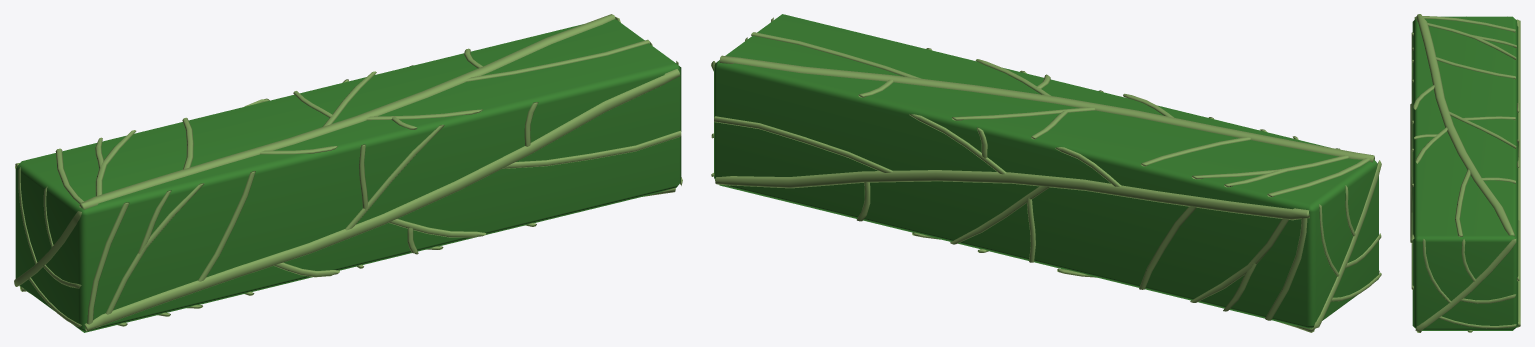
Rendered from leafbrock2.fbx.
The picture shows the model from 3 angles, left to right: view 1: azimuth 30°, elevation 25°; view 2: azimuth 150°, elevation 25°; view 3: azimuth 270°, elevation 25°; orthographic projection. The views are drawn at different scales.
Parts seen in each view (by area): view 1: pCube1, pCylinder1 (×2), pCylinder2 (×2), pCylinder3 (×2), pCylinder10, pCylinder12, pCylinder6, leafblock:pCylinder1, pCylinder8; view 2: pCube1, pCylinder1 (×2), pCylinder2 (×2), pCylinder10 (×2), pCylinder6 (×2), pCylinder12 (×2), pCylinder8 (×2), leafblock:pCylinder1, pCylinder3; view 3: pCube1, pCylinder1 (×3), leafblock:pCylinder1, pCylinder2 (×3), pCylinder10, pCylinder12, pCylinder8, pCylinder6, leafblock:pCylinder7, leafblock:pCylinder6, leafblock:pCylinder5, pCylinder3 (+5 smaller).
Part boxes in pixels (left/top/right/bottom): pCube1: left=15, top=19, right=681, bottom=332; pCylinder1 (×2): left=79, top=14, right=680, bottom=331; pCylinder2 (×2): left=465, top=39, right=681, bottom=168; pCylinder3 (×2): left=366, top=109, right=486, bottom=237; pCylinder10: left=105, top=183, right=204, bottom=314; pCylinder12: left=87, top=202, right=129, bottom=324; pCylinder6: left=345, top=124, right=444, bottom=230; leafblock:pCylinder1: left=14, top=211, right=81, bottom=286; pCylinder8: left=198, top=171, right=255, bottom=281; pCube1: left=714, top=14, right=1378, bottom=328; pCylinder1 (×2): left=715, top=55, right=1374, bottom=220; pCylinder2 (×2): left=714, top=32, right=920, bottom=172; pCylinder10 (×2): left=1190, top=155, right=1348, bottom=302; pCylinder6 (×2): left=950, top=107, right=1095, bottom=244; pCylinder12 (×2): left=1265, top=158, right=1370, bottom=320; pCylinder8 (×2): left=1139, top=137, right=1250, bottom=289; leafblock:pCylinder1: left=1313, top=160, right=1381, bottom=329; pCylinder3: left=909, top=114, right=1006, bottom=174; pCube1: left=1412, top=16, right=1518, bottom=330; pCylinder1 (×3): left=1410, top=14, right=1520, bottom=327; leafblock:pCylinder1: left=1415, top=239, right=1516, bottom=330; pCylinder2 (×3): left=1411, top=169, right=1519, bottom=289; pCylinder10: left=1427, top=22, right=1516, bottom=60; pCylinder12: left=1423, top=16, right=1515, bottom=32; pCylinder8: left=1435, top=57, right=1515, bottom=79; pCylinder6: left=1448, top=111, right=1516, bottom=148; leafblock:pCylinder7: left=1439, top=316, right=1516, bottom=328; leafblock:pCylinder6: left=1422, top=239, right=1451, bottom=303; leafblock:pCylinder5: left=1460, top=294, right=1515, bottom=303; pCylinder3: left=1415, top=127, right=1447, bottom=163.
Bounding box in the file's own units: 251 × 52.08 × 52.08.
